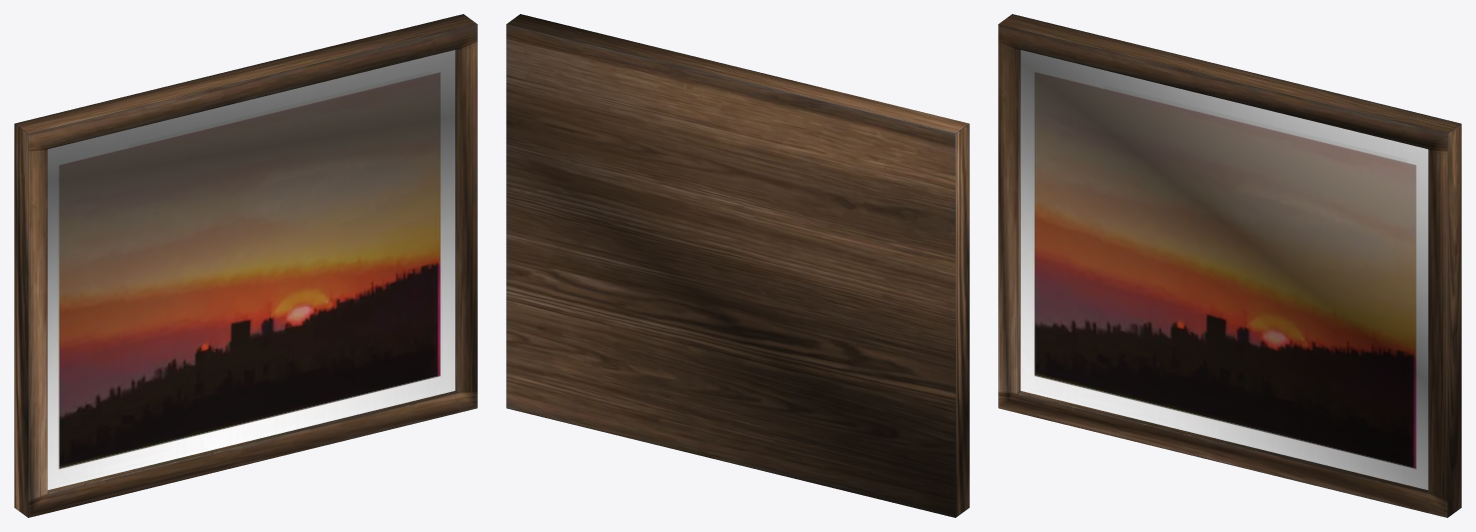
Rendered from sun.glb.
3 views of the same model, side by side, from view 1: azimuth 30°, elevation 25°; view 2: azimuth 150°, elevation 25°; view 3: azimuth 330°, elevation 25° (orthographic).
Parts seen in each view (by area): view 1: Plano.001_Materiais.003_0; view 2: Plano.001_Materiais.003_0; view 3: Plano.001_Materiais.003_0.
Part boxes in pixels (x1,y1,x2,y2): Plano.001_Materiais.003_0: [14, 14, 477, 517]; Plano.001_Materiais.003_0: [506, 14, 969, 517]; Plano.001_Materiais.003_0: [998, 14, 1461, 517].
Bounding box in the file's own units: 0.6215 × 0.5079 × 0.0334.
1 material, 1 textured.
